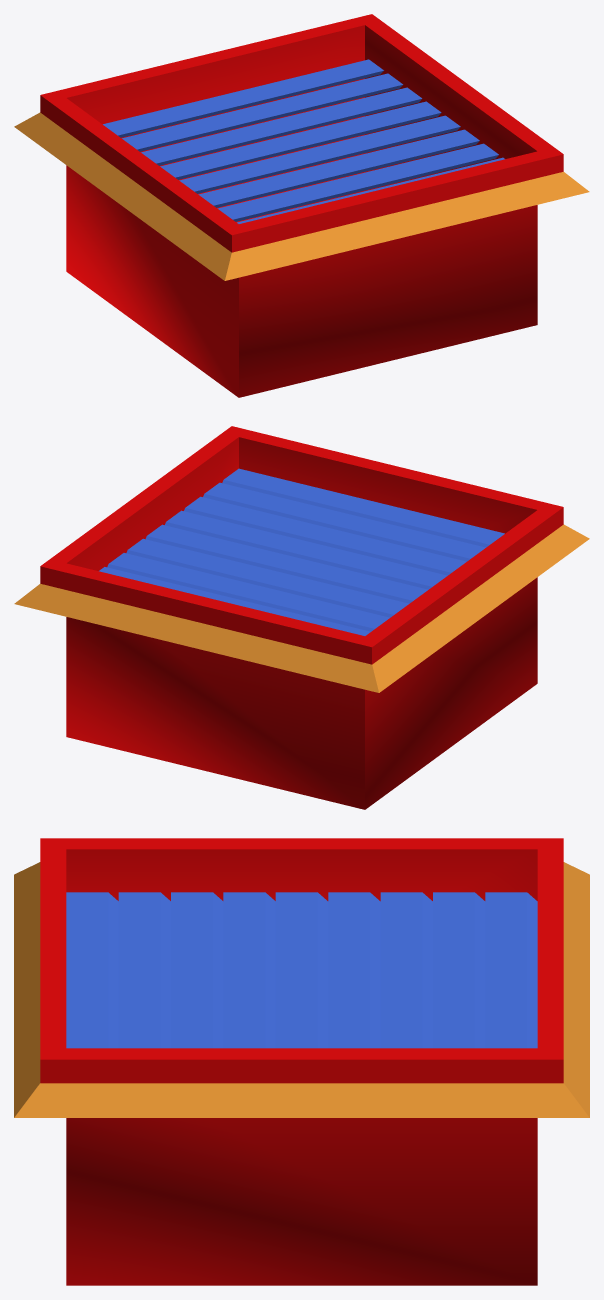
Rendered from VentPnumatic.fbx.
The picture shows the model from 3 angles, top to bottom: view 1: azimuth 30°, elevation 25°; view 2: azimuth 150°, elevation 25°; view 3: azimuth 270°, elevation 25°; orthographic projection. The views are drawn at different scales.
Parts seen in each view (by area): view 1: Cube, Cube.005, Cube.006, Cube.001, Cube.002, Cube.007, Cube.003, Cube.004, Cube.008; view 2: Cube, Cube.004, Cube.009, Cube.005, Cube.007, Cube.008, Cube.006, Cube.003, Cube.002; view 3: Cube, Cube.005, Cube.008, Cube.006, Cube.003, Cube.009, Cube.001, Cube.004, Cube.007, Cube.002.
Boxes of the visible parts, x1,y1,x2,y2 form: Cube: (14, 14, 589, 397); Cube.005: (179, 115, 460, 193); Cube.006: (198, 129, 479, 207); Cube.001: (103, 59, 383, 137); Cube.002: (122, 73, 403, 151); Cube.007: (217, 143, 498, 221); Cube.003: (141, 87, 422, 165); Cube.004: (160, 101, 441, 179); Cube.008: (237, 157, 504, 223); Cube: (14, 426, 589, 809); Cube.004: (126, 538, 408, 617); Cube.009: (222, 468, 504, 547); Cube.005: (145, 524, 428, 603); Cube.007: (184, 496, 466, 575); Cube.008: (203, 482, 485, 561); Cube.006: (165, 510, 447, 589); Cube.003: (107, 553, 389, 631); Cube.002: (99, 567, 370, 635); Cube: (14, 838, 589, 1285); Cube.005: (275, 892, 328, 1048); Cube.008: (118, 892, 170, 1048); Cube.006: (223, 892, 275, 1048); Cube.003: (380, 892, 432, 1048); Cube.009: (66, 892, 118, 1048); Cube.001: (485, 892, 537, 1048); Cube.004: (328, 892, 380, 1048); Cube.007: (171, 892, 223, 1048); Cube.002: (433, 892, 485, 1048).
Size of what is drawn, in the model's own units: 220 by 100 by 220.
